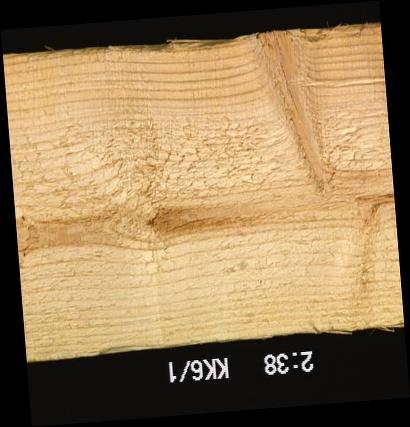wave: (90, 30, 380, 60)
